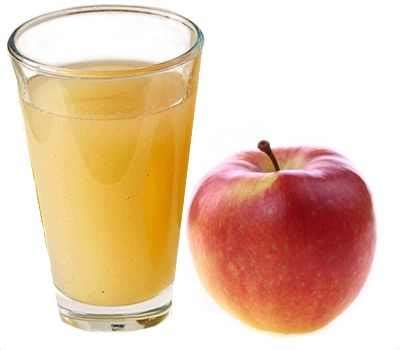apple: (184, 145, 378, 337)
